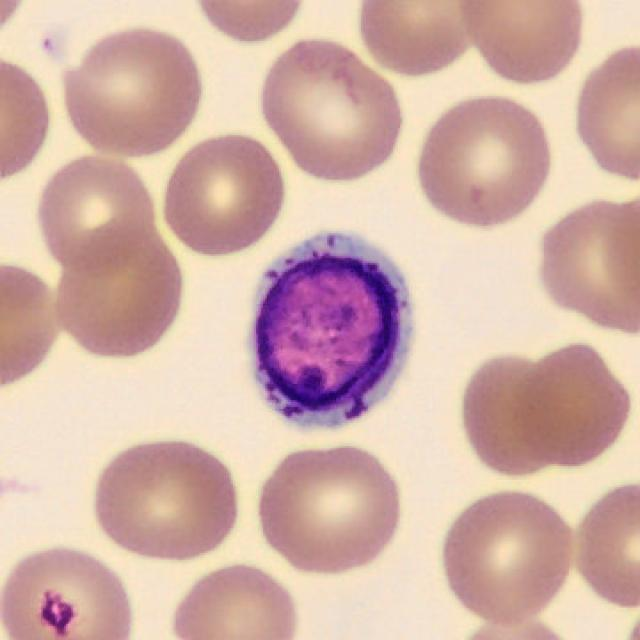Linfocito: (251, 231, 414, 430)
